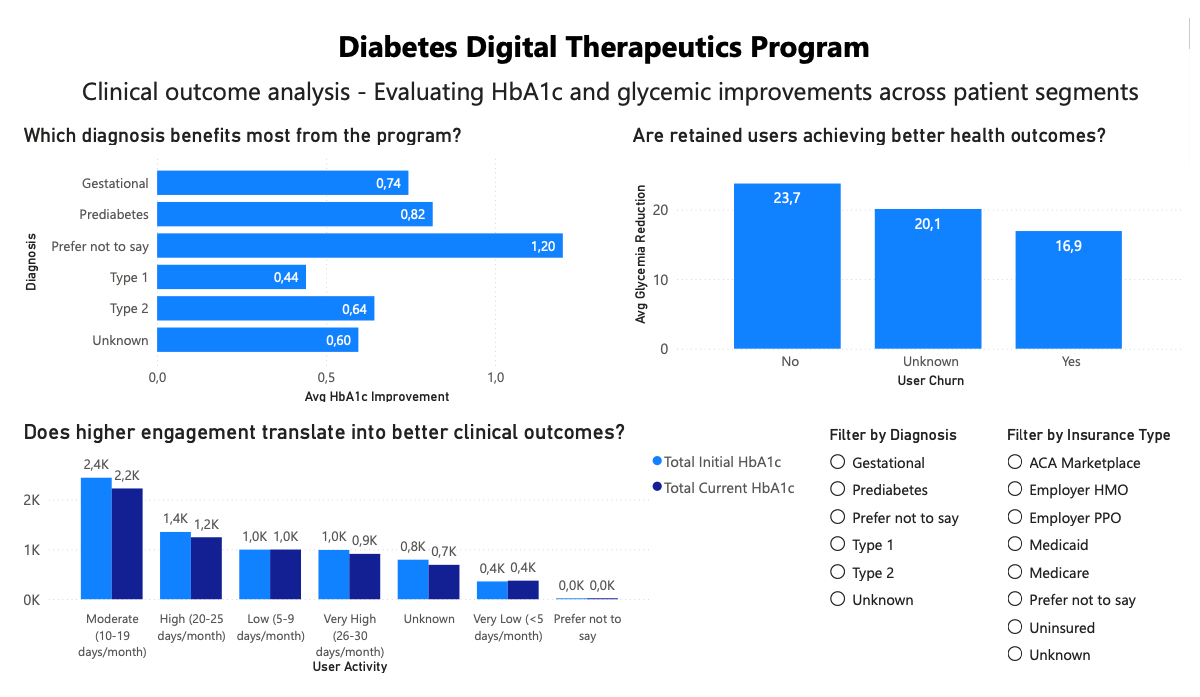

This screenshot's page, from the dashboard's own definition file:
{"tool":"powerbi","page":{"name":"Treatment Effectiveness","canvas":[1280,720],"ordinal":1},"visuals":[{"type":"clusteredBarChart","title":"Which diagnosis benefits most from the program?","fields":{"Category":["users.clean_diagnosis"],"Y":["users.Avg HbA1c Improvement"]},"box":[0,115.1,647.2,309.4],"z":0},{"type":"clusteredColumnChart","title":"Does higher engagement translate into better clinical outcomes?","fields":{"Category":["users.clean_user_activity"],"Y":["Sum(users.initial_hba1c)","Sum(users.current_hba1c)"]},"box":[0,437.7,862.3,283],"z":1000},{"type":"columnChart","title":"Are retained users achieving better health outcomes?","fields":{"Category":["users.clean_user_churn"],"Y":["users.Avg Glycemia Reduction"]},"box":[666,115.1,613.2,292.5],"z":2000},{"type":"listSlicer","fields":{"Values":["users.clean_diagnosis"]},"box":[881.1,445.3,184.9,213.2],"z":3000},{"type":"listSlicer","fields":{"Values":["users.clean_insurance_type"]},"box":[1075.5,445.3,203.8,275.5],"z":4000},{"type":"textbox","box":[15.1,54.7,1264.2,52.8],"z":5000},{"type":"textbox","box":[330.2,1.9,618.9,52.8],"z":6000}]}

Visuals, with their boxes on the page's 1280x720 design canvas (x1, y1, x2, y2). These are canvas units, not pixel positions in the 1200x697 screenshot, which may show the page scaled, cropped or inside an application window:
"Which diagnosis benefits most from the program?" clusteredBarChart: select_region(0, 115, 647, 424)
"Does higher engagement translate into better clinical outcomes?" clusteredColumnChart: select_region(0, 438, 862, 721)
"Are retained users achieving better health outcomes?" columnChart: select_region(666, 115, 1279, 408)
listSlicer - users.clean_diagnosis: select_region(881, 445, 1066, 658)
listSlicer - users.clean_insurance_type: select_region(1076, 445, 1279, 721)
textbox: select_region(15, 55, 1279, 108)
textbox: select_region(330, 2, 949, 55)
